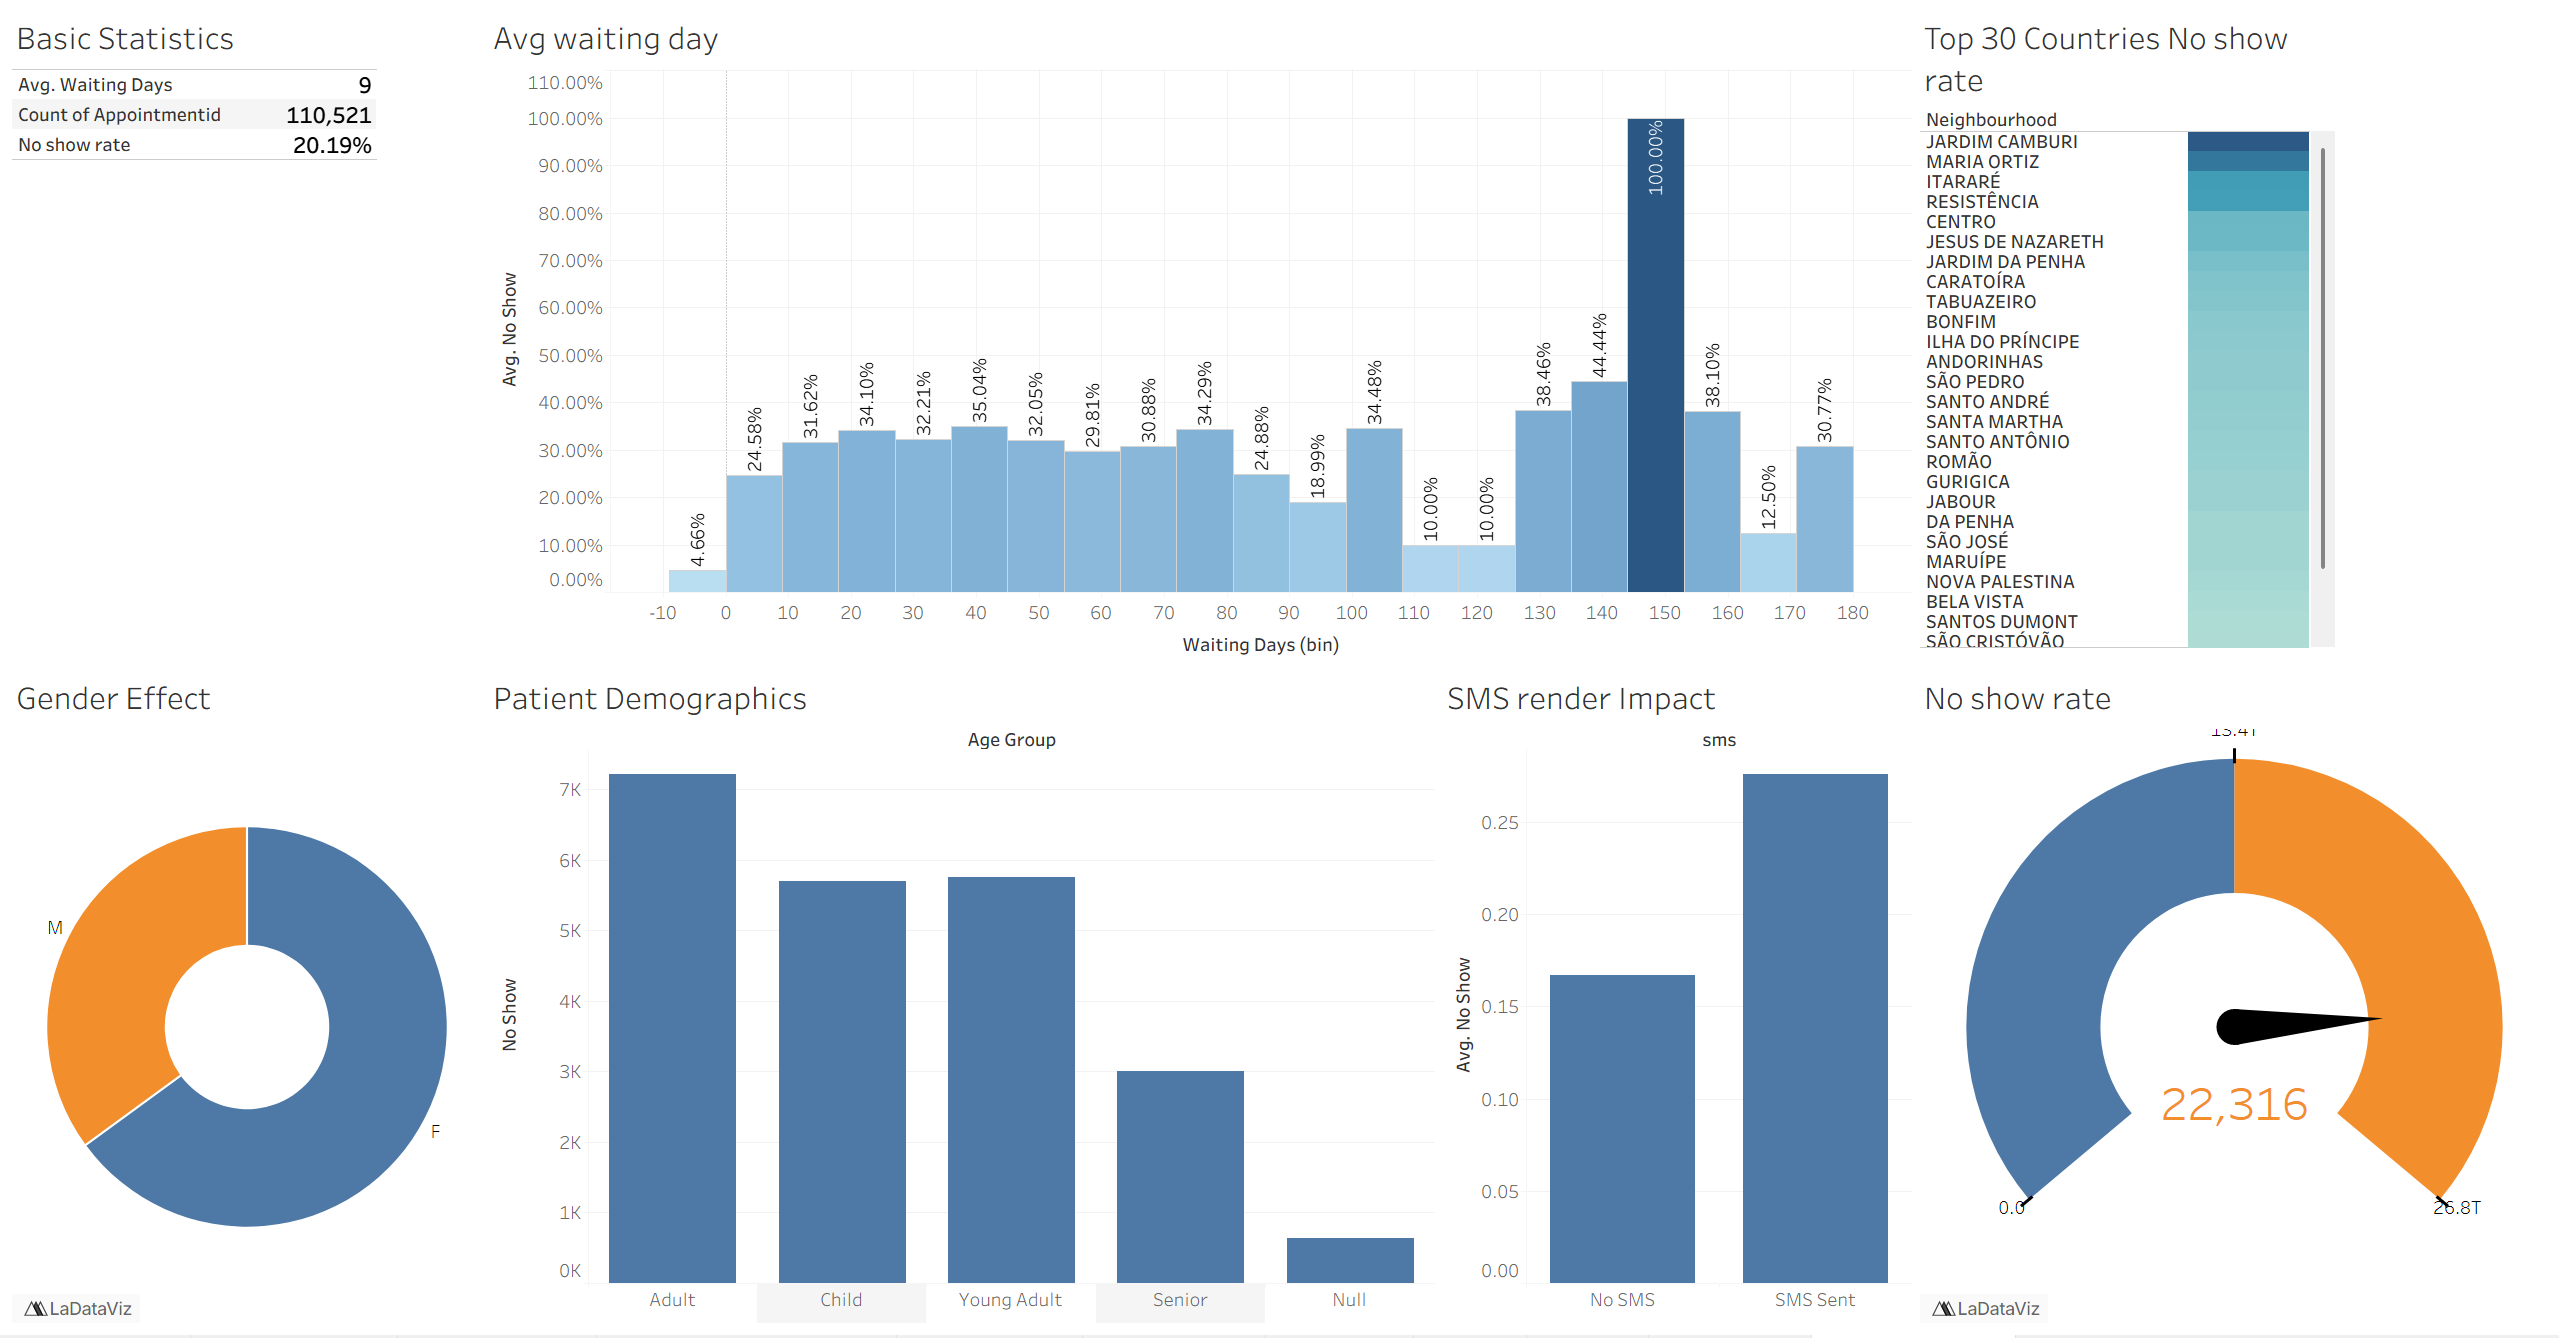

This screenshot's page, from the dashboard's own definition file:
{"tool":"tableau","page":{"name":"Dashboard 2","canvas":[1000,1000],"units":"permille","ordinal":1},"visuals":[{"type":"worksheet","title":"Total Appointments","mark":"Text","box":[3.6,7.2,172.9,492.8]},{"type":"worksheet","title":"Avg waiting days","mark":"Bar","rows":["no_show"],"cols":["Waiting Days (bin)"],"box":[176.5,7.2,518.3,492.8]},{"type":"worksheet","title":"Geographic Impact","mark":"Automatic","rows":["neighbourhood"],"box":[694.7,7.2,230.4,492.8]},{"type":"filter","title":"Gauz chart","param":"[federated.1ukme8e144770t12899y81xa32kl].[sum:no_show:qk]","box":[925.1,7.2,71.3,69.6]},{"type":"legend","title":"Geographic Impact","param":"[federated.1ukme8e144770t12899y81xa32kl].[sum:no_show:qk]","box":[925.1,76.9,71.3,73.2]},{"type":"legend","title":"Avg waiting days","param":"[federated.1ukme8e144770t12899y81xa32kl].[usr:Calculation_2516265395666944:qk]","box":[925.1,150.1,71.3,73.2]},{"type":"worksheet","title":"Donut chart","box":[3.6,500,172.8,492.8]},{"type":"worksheet","title":"Patient Demographics - Age v/s No show","mark":"Bar","rows":["no_show"],"cols":["age_group"],"box":[176.4,500,345.6,492.8]},{"type":"worksheet","title":"SMS render Impact","mark":"Bar","rows":["no_show"],"cols":["Calculation_2516265408745474"],"box":[521.9,500,172.8,492.8]},{"type":"worksheet","title":"Gauz chart","box":[694.7,500,230.4,492.8]}]}

Visuals, with their boxes on the dashboard's canvas, which has no fixed pixel size, in thousandths of its width and height (x1, y1, x2, y2). These are canvas units, not pixel positions in the 2559x1338 screenshot, which may show the page scaled, cropped or inside an application window:
"Total Appointments" worksheet (Text marks): box(4, 7, 176, 500)
"Avg waiting days" worksheet (Bar marks): box(176, 7, 695, 500)
"Geographic Impact" worksheet: box(695, 7, 925, 500)
"Gauz chart" filter: box(925, 7, 996, 77)
"Geographic Impact" legend: box(925, 77, 996, 150)
"Avg waiting days" legend: box(925, 150, 996, 223)
"Donut chart" worksheet: box(4, 500, 176, 993)
"Patient Demographics - Age v/s No show" worksheet (Bar marks): box(176, 500, 522, 993)
"SMS render Impact" worksheet (Bar marks): box(522, 500, 695, 993)
"Gauz chart" worksheet: box(695, 500, 925, 993)
